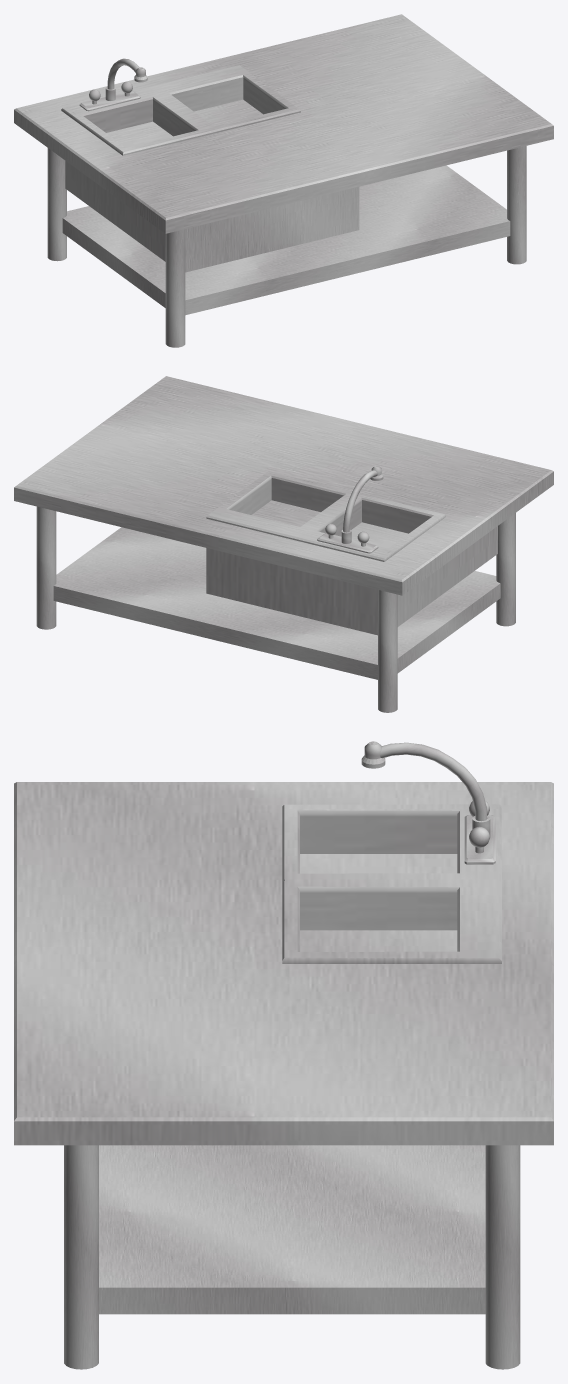
File: Kitchen_Sink_Unwrapped.fbx
3 renders of one model, top to bottom at view 1: azimuth 30°, elevation 25°; view 2: azimuth 150°, elevation 25°; view 3: azimuth 270°, elevation 25°, orthographic. The views are drawn at different scales.
Parts seen in each view (by area): view 1: Box007, Box006, Cylinder011, Cylinder012, Cylinder010, Box008; view 2: Box007, Box006, Cylinder009, Cylinder010, Cylinder011, Box008; view 3: Box007, Box006, Cylinder009, Cylinder012, Box008, Cylinder015, Cylinder014.
Part boxes in pixels (x1=…): Box007: x1=14, y1=14, x2=553, y2=272; Box006: x1=62, y1=165, x2=510, y2=315; Cylinder011: x1=165, y1=229, x2=185, y2=347; Cylinder012: x1=507, y1=146, x2=526, y2=264; Cylinder010: x1=47, y1=148, x2=66, y2=261; Box008: x1=79, y1=91, x2=140, y2=111; Box007: x1=14, y1=376, x2=553, y2=635; Box006: x1=53, y1=527, x2=500, y2=679; Cylinder009: x1=36, y1=506, x2=56, y2=629; Cylinder010: x1=378, y1=590, x2=397, y2=712; Cylinder011: x1=496, y1=513, x2=515, y2=626; Box008: x1=317, y1=533, x2=378, y2=553; Box007: x1=14, y1=782, x2=553, y2=1145; Box006: x1=99, y1=1145, x2=485, y2=1314; Cylinder009: x1=485, y1=1145, x2=520, y2=1369; Cylinder012: x1=64, y1=1145, x2=98, y2=1369; Box008: x1=464, y1=815, x2=495, y2=864; Cylinder015: x1=380, y1=742, x2=452, y2=767; Cylinder014: x1=447, y1=758, x2=487, y2=821.
Size of the model in its own units: 136 by 68.06 by 91.7.
